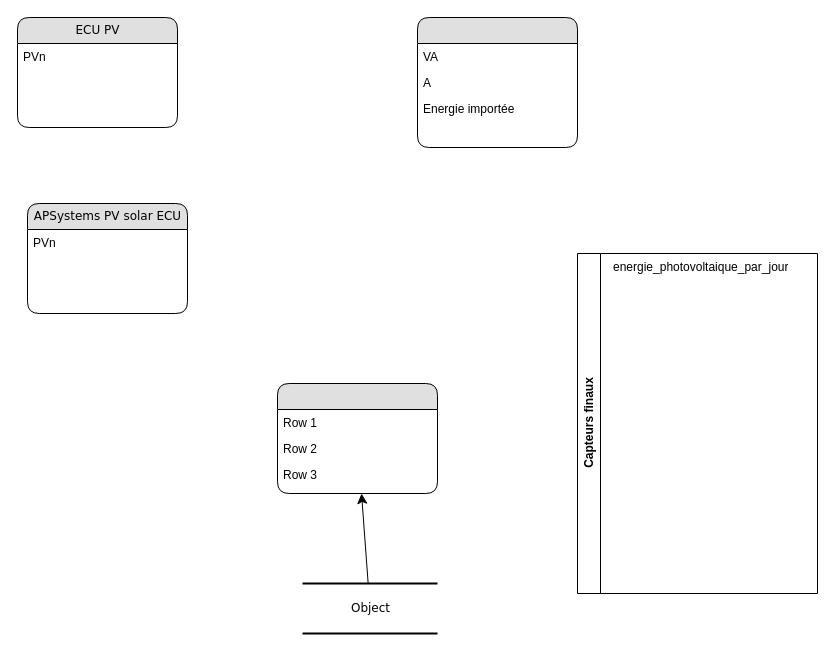
Image size: 835x652. Some labels were removed from this diagram. The shapes that lost their labels are listed below. From the top down, each one's box as (x1, y1, x2, y2) in pixels, then its label:
(416, 16, 578, 148): Linky
(276, 382, 438, 494): APS Sofar
